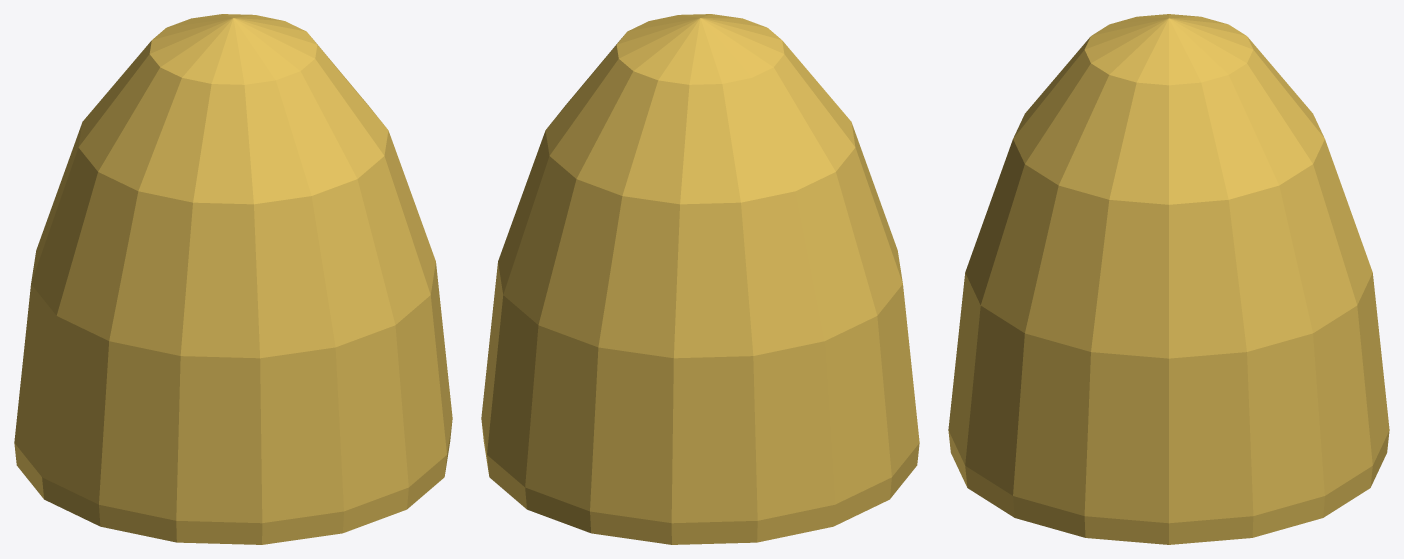
Rendered from NormalBullet.fbx.
The picture shows the model from 3 angles, left to right: view 1: azimuth 30°, elevation 25°; view 2: azimuth 150°, elevation 25°; view 3: azimuth 270°, elevation 25°; orthographic projection.
Visible parts, largest first — view 1: Sphere; view 2: Sphere; view 3: Sphere.
Boxes of the visible parts, box(x1,y1,x2,y2) form: Sphere: box(14, 14, 452, 544); Sphere: box(481, 14, 919, 544); Sphere: box(948, 14, 1389, 544).
Bounding box in the file's own units: 200 × 217 × 200.
